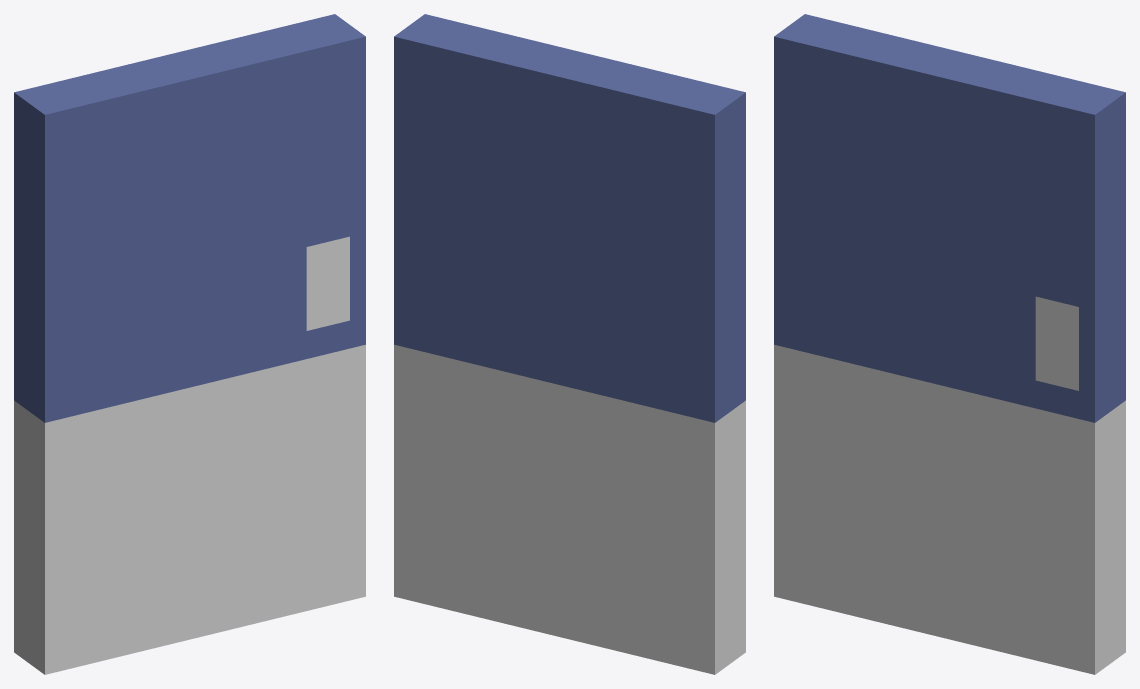
The model's file is aanewdoor.fbx.
The picture shows the model from 3 angles, left to right: view 1: azimuth 30°, elevation 25°; view 2: azimuth 150°, elevation 25°; view 3: azimuth 330°, elevation 25°; orthographic projection.
Parts seen in each view (by area): view 1: newdoor; view 2: newdoor; view 3: newdoor.
Part boxes in pixels (x1,y1,x2,y2): newdoor: (14,14,365,674); newdoor: (394,14,745,674); newdoor: (774,14,1125,674).
Bounding box in the file's own units: 15 × 25 × 2.5.
